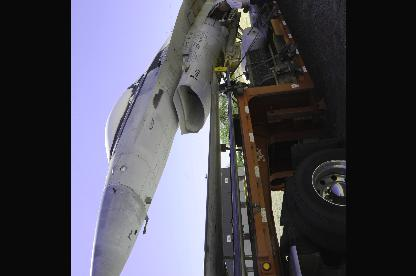F14: (71, 0, 250, 275)
